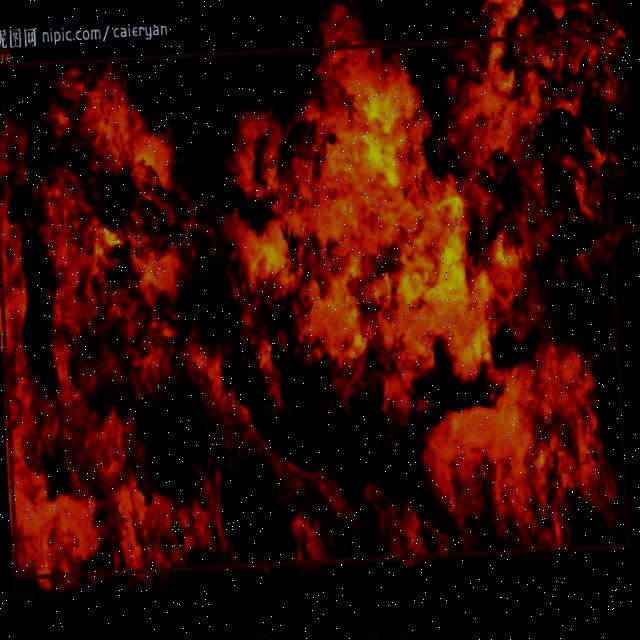fire: (0, 31, 629, 578)
